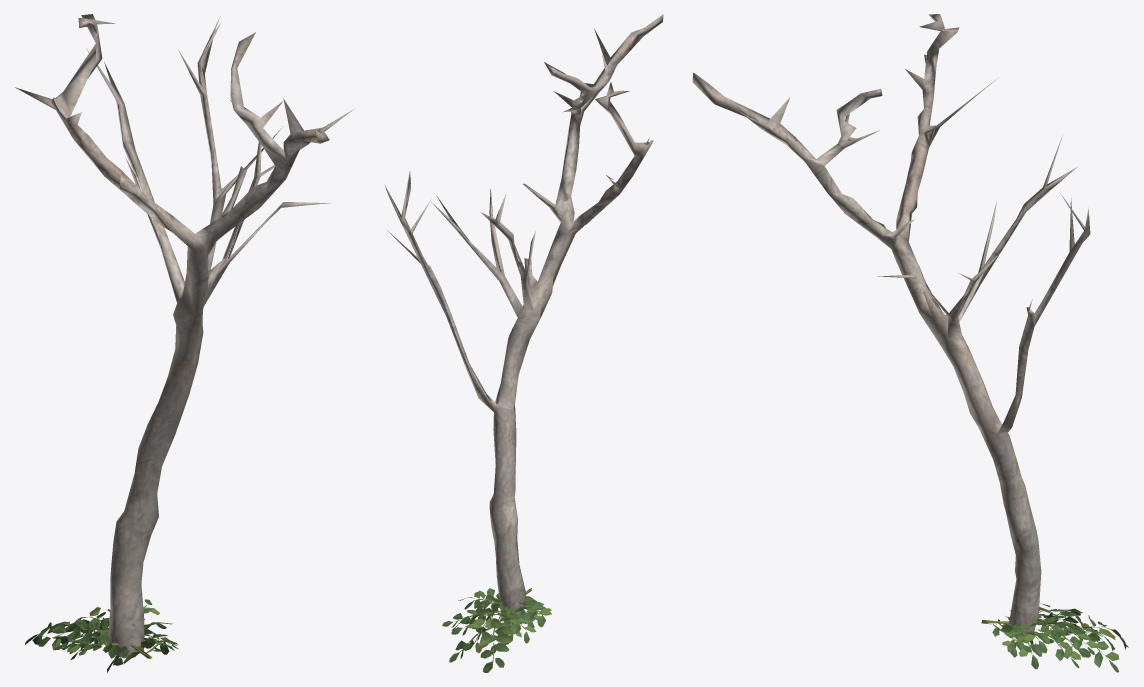
The model's file is field_broadleaf_a_lod2.glb.
3 renders of one model, left to right at view 1: azimuth 30°, elevation 25°; view 2: azimuth 150°, elevation 25°; view 3: azimuth 270°, elevation 25°, orthographic. The views are drawn at different scales.
Visible parts, largest first — view 1: bark_lod2, foliage_lod2; view 2: bark_lod2, foliage_lod2; view 3: bark_lod2, foliage_lod2.
Boxes of the visible parts, <box> form: bark_lod2: <box>15,14,353,658</box>; foliage_lod2: <box>25,599,178,672</box>; bark_lod2: <box>385,14,663,615</box>; foliage_lod2: <box>442,588,551,672</box>; bark_lod2: <box>692,14,1090,638</box>; foliage_lod2: <box>981,603,1128,672</box>.
Bounding box in the file's own units: 1.63 × 3.82 × 2.49.
2 materials, 2 textured.
